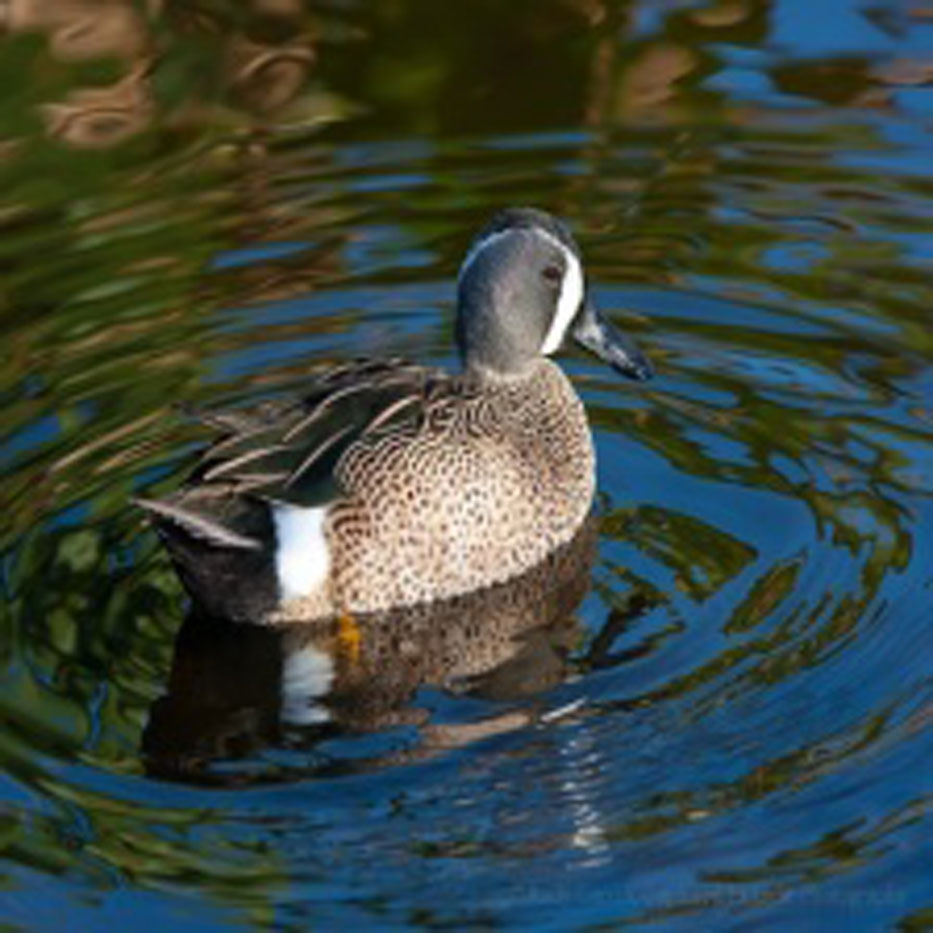Mencari Makan di Lumpur: (573, 308, 660, 387)
